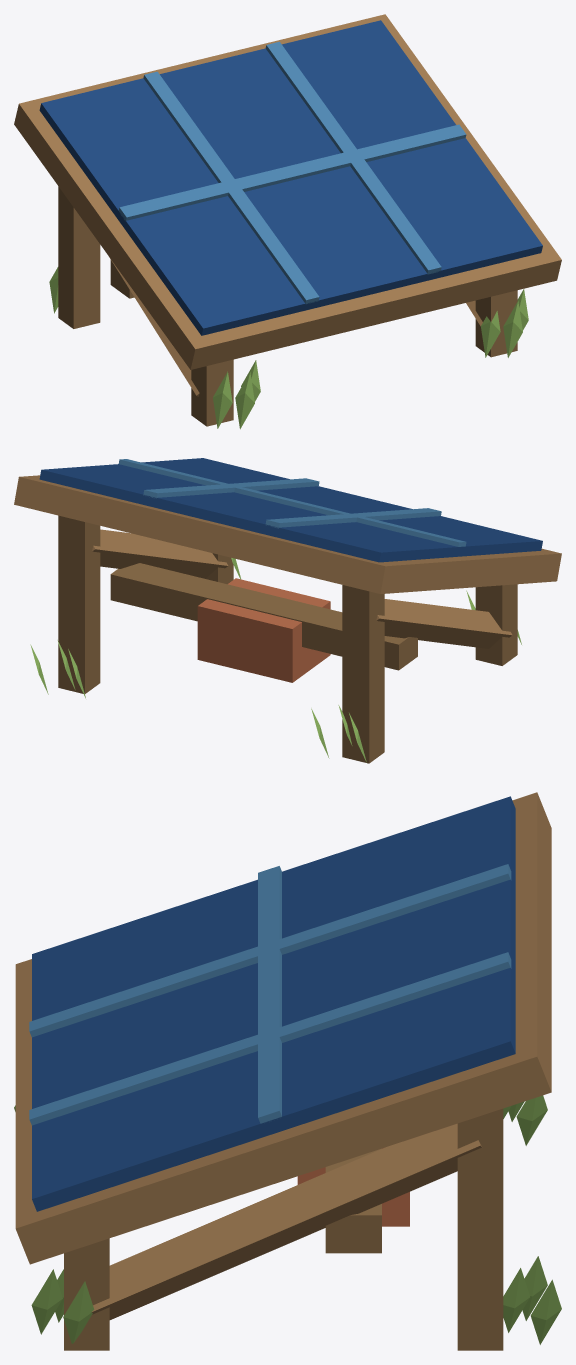
Rendered from solar_panel.glb.
3 views of the same model, one above another, from view 1: azimuth 30°, elevation 25°; view 2: azimuth 150°, elevation 25°; view 3: azimuth 270°, elevation 25° (orthographic). The views are drawn at different scales.
Visible parts, largest first — view 1: Solar_array_blue_glass, Solar_array_timber_frame, Solar_array_cell_separator.002, Solar_timber_leg.001, Solar_array_cell_separator.001, Solar_array_cell_separator, Solar_timber_leg, Solar_timber_leg.002, Solar_trestle_brace, decor_Grass.002, decor_Grass, decor_Grass.011 (+1 smaller); view 2: Solar_array_blue_glass, Solar_array_timber_frame, Solar_converter_support, Solar_copper_converter, Solar_timber_leg.001, Solar_timber_leg.003, Solar_trestle_brace, Solar_trestle_brace.001, Solar_array_cell_separator.002, Solar_timber_leg, Solar_array_cell_separator, Solar_array_cell_separator.001 (+1 smaller); view 3: Solar_array_blue_glass, Solar_array_timber_frame, Solar_trestle_brace.001, Solar_timber_leg.003, Solar_array_cell_separator, Solar_array_cell_separator.001, Solar_array_cell_separator.002, Solar_timber_leg.002, Solar_converter_support, Solar_copper_converter, decor_Grass.011, decor_Grass.004 (+4 smaller).
Boxes of the visible parts, bbox=[...] form: Solar_array_blue_glass: bbox=[39, 20, 542, 335]; Solar_array_timber_frame: bbox=[14, 14, 561, 369]; Solar_array_cell_separator.002: bbox=[118, 124, 466, 221]; Solar_timber_leg.001: bbox=[58, 186, 100, 328]; Solar_array_cell_separator.001: bbox=[265, 41, 441, 274]; Solar_array_cell_separator: bbox=[143, 71, 319, 304]; Solar_timber_leg: bbox=[191, 359, 233, 426]; Solar_timber_leg.002: bbox=[475, 290, 517, 357]; Solar_trestle_brace: bbox=[109, 257, 199, 396]; decor_Grass.002: bbox=[235, 372, 254, 429]; decor_Grass: bbox=[213, 371, 232, 428]; decor_Grass.011: bbox=[503, 301, 522, 357]; Solar_array_blue_glass: bbox=[39, 458, 542, 562]; Solar_array_timber_frame: bbox=[14, 475, 561, 593]; Solar_converter_support: bbox=[110, 563, 417, 670]; Solar_copper_converter: bbox=[197, 578, 330, 682]; Solar_timber_leg.001: bbox=[342, 585, 384, 763]; Solar_timber_leg.003: bbox=[58, 515, 100, 693]; Solar_trestle_brace: bbox=[376, 599, 512, 648]; Solar_trestle_brace.001: bbox=[92, 529, 228, 578]; Solar_array_cell_separator.002: bbox=[118, 459, 466, 546]; Solar_timber_leg: bbox=[475, 584, 517, 665]; Solar_array_cell_separator: bbox=[265, 508, 441, 528]; Solar_array_cell_separator.001: bbox=[143, 478, 319, 498]; Solar_array_blue_glass: bbox=[32, 796, 515, 1211]; Solar_array_timber_frame: bbox=[15, 792, 551, 1264]; Solar_trestle_brace.001: bbox=[91, 1123, 481, 1319]; Solar_timber_leg.003: bbox=[457, 1108, 503, 1350]; Solar_array_cell_separator: bbox=[29, 864, 511, 1037]; Solar_array_cell_separator.001: bbox=[29, 952, 511, 1125]; Solar_array_cell_separator.002: bbox=[258, 866, 281, 1123]; Solar_timber_leg.002: bbox=[64, 1238, 109, 1350]; Solar_converter_support: bbox=[325, 1148, 381, 1253]; Solar_copper_converter: bbox=[297, 1148, 409, 1226]; decor_Grass.011: bbox=[31, 1269, 62, 1334]; decor_Grass.004: bbox=[530, 1279, 561, 1344].
Size of the model in its own units: 1.78 by 1.02 by 1.56.
